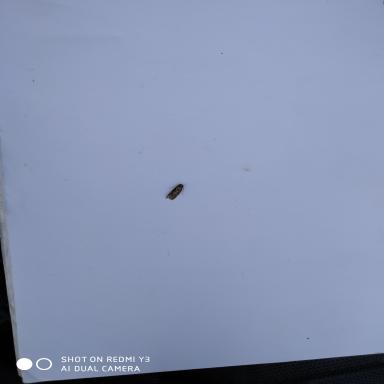pbw: (164, 182, 185, 201)
